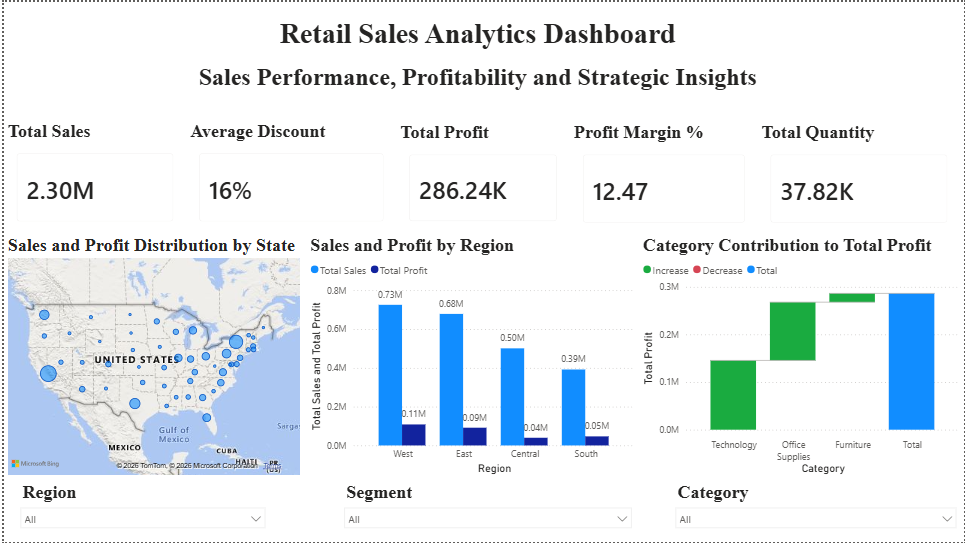

What the dashboard file says about the page in this screenshot:
{"tool":"powerbi","page":{"name":"Page 1","canvas":[1280,720],"ordinal":0},"visuals":[{"type":"cardVisual","fields":{"Data":["SampleSuperstore_cleaned.Total Sales"]},"box":[9.6,0,220.9,155.1],"z":0},{"type":"cardVisual","fields":{"Data":["SampleSuperstore_cleaned.Total Profit"]},"box":[0,175.6,231.9,183.9],"z":1000},{"type":"cardVisual","fields":{"Data":["SampleSuperstore_cleaned.Total Quantity"]},"box":[0,481.6,279.9,150.9],"z":2000},{"type":"cardVisual","fields":{"Data":["SampleSuperstore_cleaned.Average Discount"]},"box":[279.9,4.1,279.9,150.9],"z":3000},{"type":"cardVisual","fields":{"Data":["SampleSuperstore_cleaned.Profit Margin %"]},"box":[0,341.7,249.7,150.9],"z":4000},{"type":"clusteredColumnChart","title":"Sales and Profit by Region","fields":{"Category":["SampleSuperstore_cleaned.Region"],"Y":["SampleSuperstore_cleaned.Total Sales","SampleSuperstore_cleaned.Total Profit"]},"box":[279.9,175.6,433.6,365],"z":5000},{"type":"map","fields":{"Category":["SampleSuperstore_cleaned.State"],"Size":["SampleSuperstore_cleaned.Total Sales"]},"box":[850.8,42.5,308.7,225],"z":6000},{"type":"waterfallChart","fields":{"Category":["SampleSuperstore_cleaned.Category"],"Y":["SampleSuperstore_cleaned.Total Profit"]},"box":[838.4,369.1,395.2,326.6],"z":6001}]}

Visuals, with their boxes in screenshot pixels (x1, y1, x2, y2), scaled from the page's 1280x720 canvas onto the 965x543 screenshot:
cardVisual - SampleSuperstore_cleaned.Total Sales: detection(7, 0, 174, 117)
cardVisual - SampleSuperstore_cleaned.Total Profit: detection(0, 132, 175, 271)
cardVisual - SampleSuperstore_cleaned.Total Quantity: detection(0, 363, 211, 477)
cardVisual - SampleSuperstore_cleaned.Average Discount: detection(211, 3, 422, 117)
cardVisual - SampleSuperstore_cleaned.Profit Margin %: detection(0, 258, 188, 372)
"Sales and Profit by Region" clusteredColumnChart: detection(211, 132, 538, 408)
map - SampleSuperstore_cleaned.State x SampleSuperstore_cleaned.Total Sales: detection(641, 32, 874, 202)
waterfallChart - SampleSuperstore_cleaned.Category x SampleSuperstore_cleaned.Total Profit: detection(632, 278, 930, 525)
